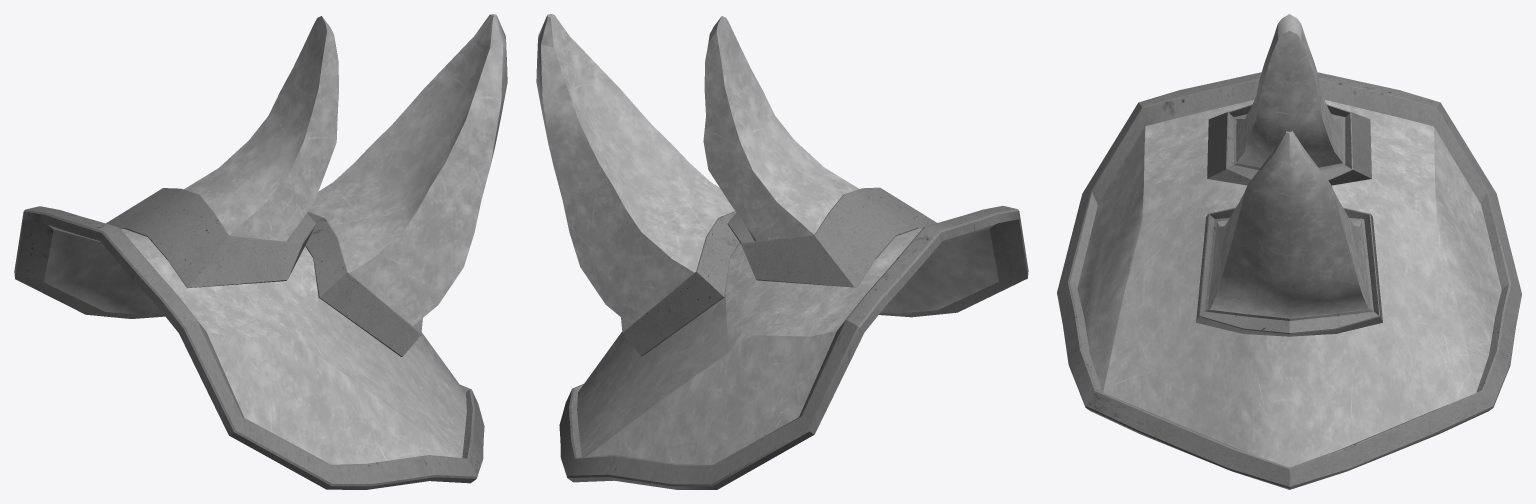
Rendered from ITM_DEFENSIVE_SHOULDERPADS.fbx.
The picture shows the model from 3 angles, left to right: view 1: azimuth 30°, elevation 25°; view 2: azimuth 150°, elevation 25°; view 3: azimuth 270°, elevation 25°; orthographic projection. The views are drawn at different scales.
Visible parts, largest first — view 1: itm_defensive_spiked_shoulder; view 2: itm_defensive_spiked_shoulder; view 3: itm_defensive_spiked_shoulder.
Boxes of the visible parts, left/top/right/bottom form: itm_defensive_spiked_shoulder: left=14, top=14, right=507, bottom=489; itm_defensive_spiked_shoulder: left=536, top=14, right=1028, bottom=489; itm_defensive_spiked_shoulder: left=1057, top=14, right=1521, bottom=489.
Bounding box in the file's own units: 61.28 × 62.18 × 64.4.
